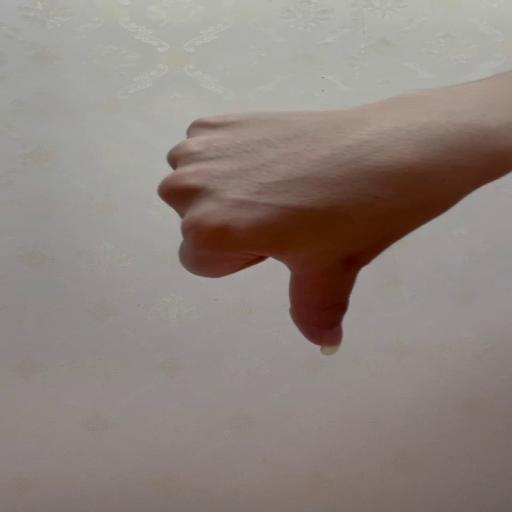thumbs_down: (158, 110, 458, 355)
